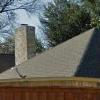Chimney: (9, 12, 36, 62)
